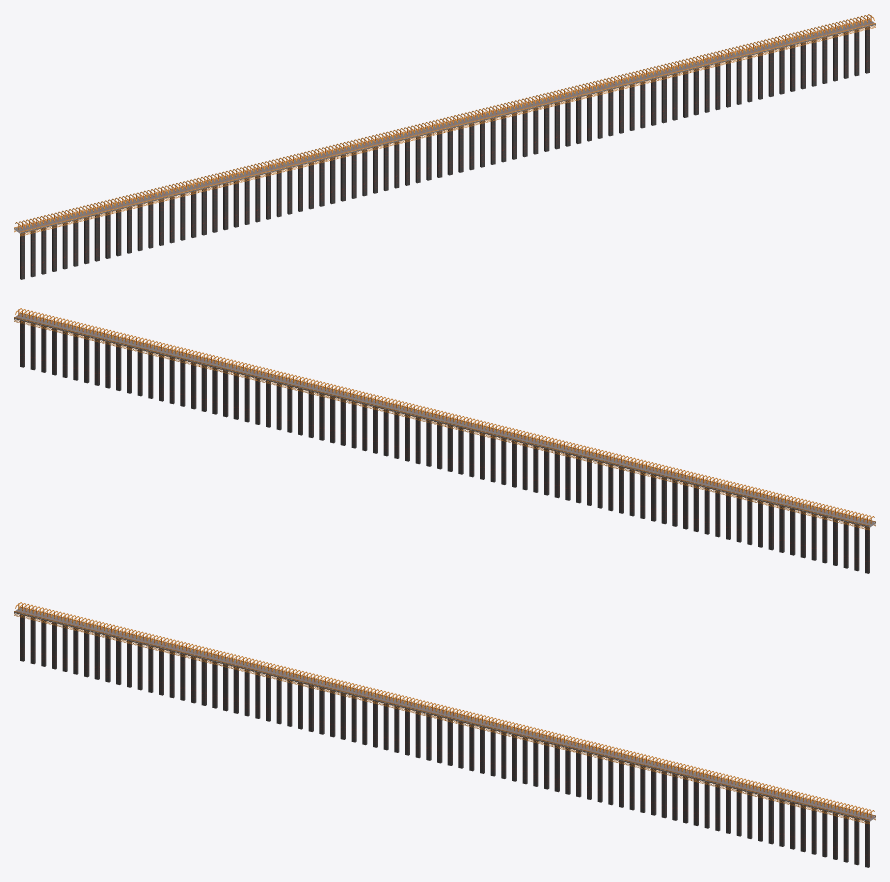
File: TrainBridge.obj
3 renders of one model, top to bottom at view 1: azimuth 30°, elevation 25°; view 2: azimuth 150°, elevation 25°; view 3: azimuth 330°, elevation 25°, orthographic.
Visible parts, largest first — view 1: 橋; view 2: 橋; view 3: 橋.
Boxes of the visible parts, bbox=[...] form: 橋: bbox=[14, 14, 875, 279]; 橋: bbox=[14, 308, 875, 573]; 橋: bbox=[14, 602, 875, 867].
Bounding box in the file's own units: 9600 × 607 × 131.
